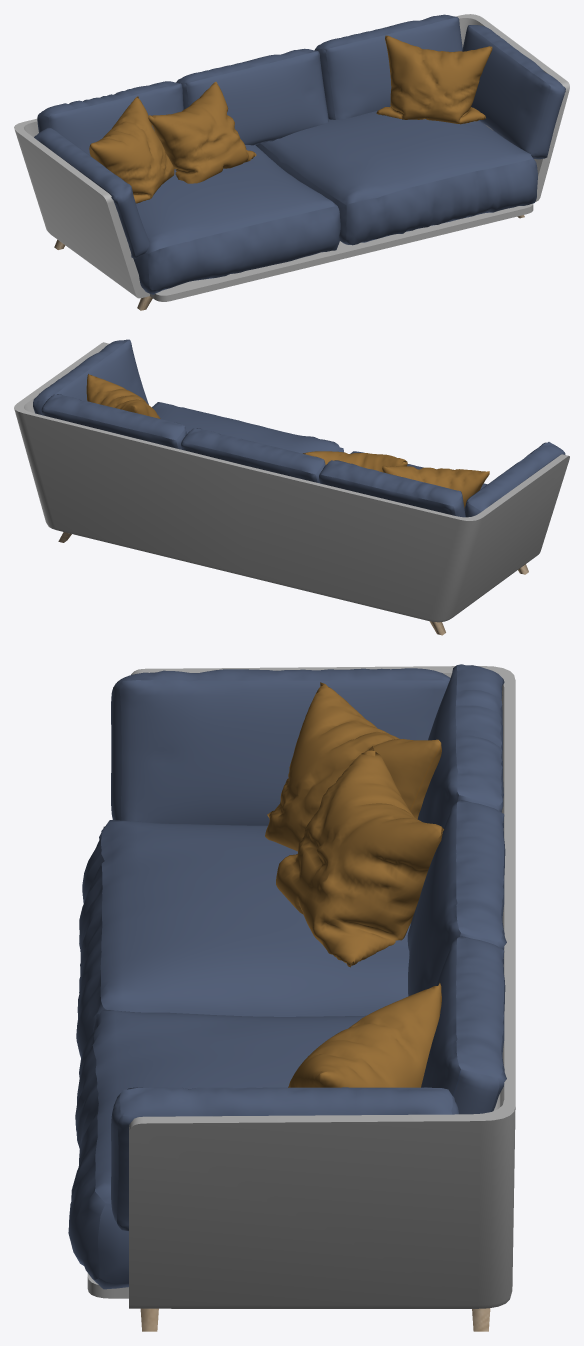
File: couch2.glb
The picture shows the model from 3 angles, top to bottom: view 1: azimuth 30°, elevation 25°; view 2: azimuth 150°, elevation 25°; view 3: azimuth 270°, elevation 25°; orthographic projection. The views are drawn at different scales.
Parts seen in each view (by area): view 1: Object001_kk_0; view 2: Object001_kk_0; view 3: Object001_kk_0.
Part boxes in pixels (x1,y1,x2,y2): Object001_kk_0: [14, 14, 569, 310]; Object001_kk_0: [14, 339, 569, 635]; Object001_kk_0: [68, 664, 515, 1331].
Size of the model in its own units: 205 by 59.95 by 84.99.
Materials: 1 (1 with a texture image).
